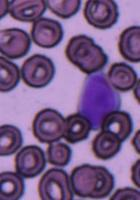L: (77, 69, 121, 130)
